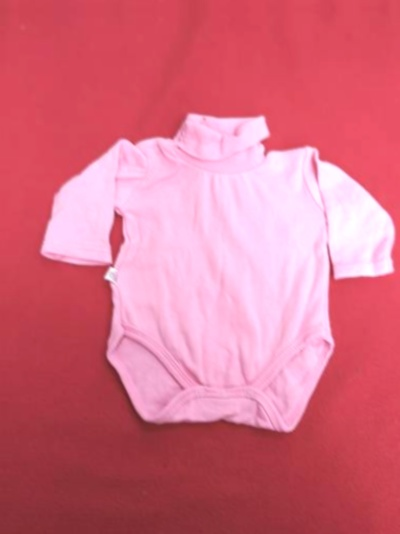Body: (48, 87, 395, 463)
